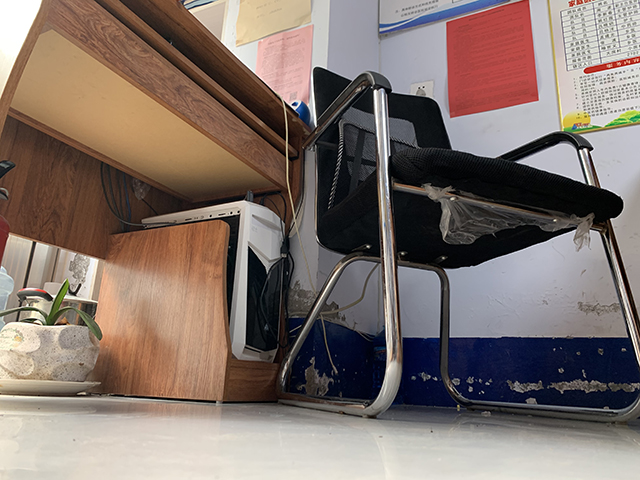stool: (275, 65, 640, 425)
table: (1, 1, 317, 407)
